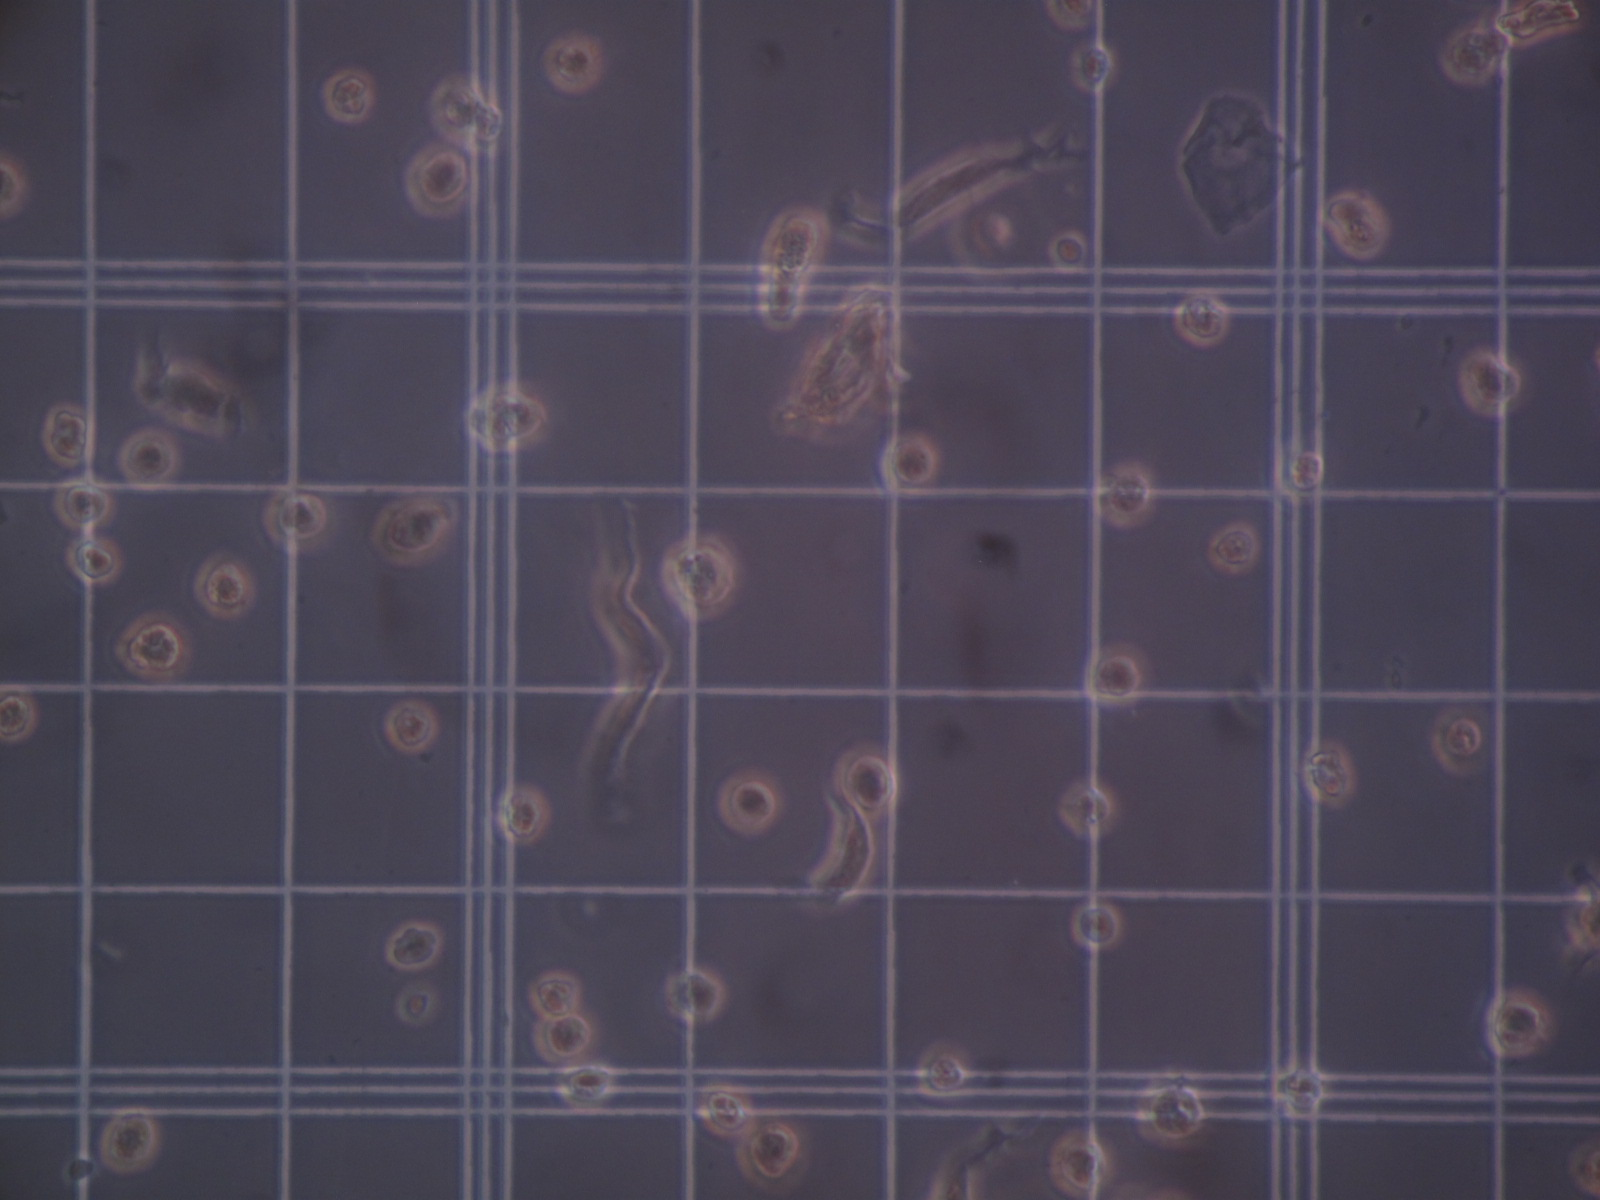hemo: (756, 208, 833, 332), (660, 534, 737, 623), (1134, 1065, 1204, 1148), (464, 383, 549, 451), (372, 500, 457, 566), (404, 140, 469, 219), (718, 766, 784, 842), (734, 1114, 811, 1179), (1322, 188, 1390, 260), (116, 613, 189, 679), (1083, 644, 1153, 711), (1485, 991, 1553, 1058), (837, 747, 900, 819), (261, 487, 331, 550), (1049, 1132, 1115, 1197), (1460, 347, 1519, 418), (1441, 24, 1508, 87), (98, 1104, 159, 1174), (540, 29, 601, 96), (1497, 1, 1581, 48), (426, 73, 481, 144), (1301, 740, 1357, 809), (1099, 459, 1154, 528), (197, 553, 254, 619), (879, 435, 936, 500), (1057, 776, 1115, 839), (1172, 286, 1227, 350), (1432, 705, 1482, 774), (43, 403, 96, 466), (666, 967, 724, 1024), (556, 1061, 615, 1117), (697, 1082, 753, 1138), (498, 784, 551, 845), (121, 429, 175, 487), (386, 697, 438, 756), (915, 1042, 969, 1098), (323, 68, 375, 124), (55, 478, 112, 529), (534, 1012, 593, 1061), (1272, 1066, 1329, 1117), (386, 920, 443, 969), (1070, 900, 1124, 950), (1208, 522, 1257, 575), (67, 538, 121, 585), (469, 91, 506, 158), (529, 969, 582, 1016), (1569, 882, 1600, 955), (1279, 447, 1325, 497), (1070, 43, 1112, 95), (396, 982, 437, 1029), (1044, 229, 1087, 274), (1, 695, 39, 742), (1041, 1, 1092, 32), (1, 158, 24, 217)
